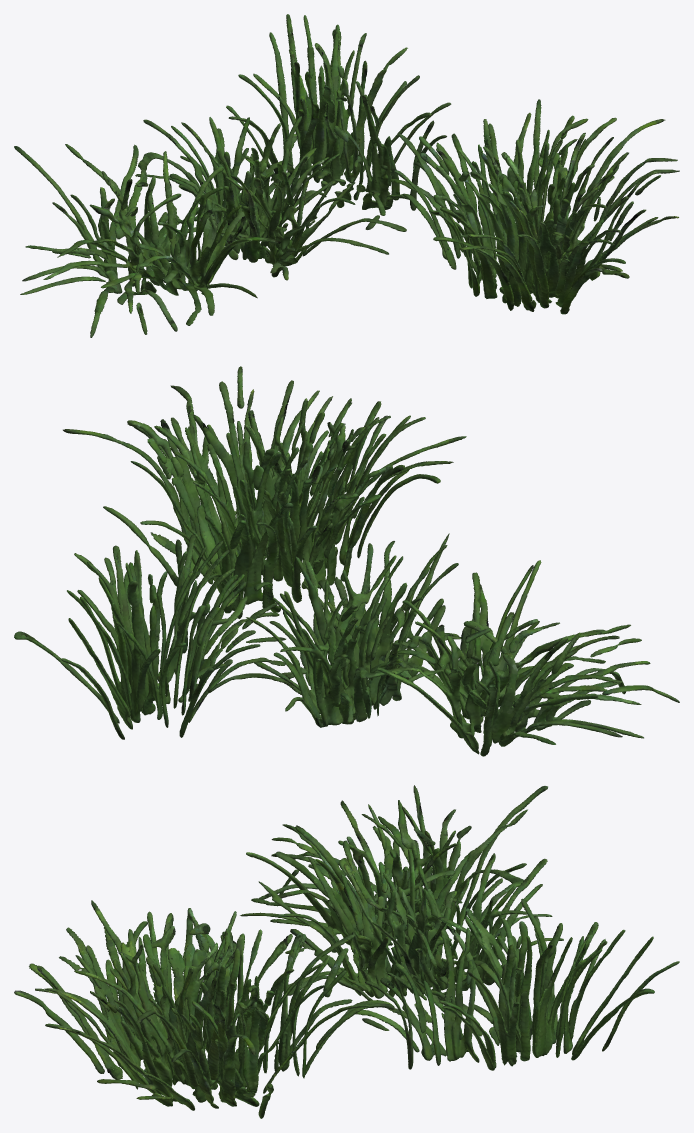
File: Grass.glb
3 views of the same model, one above another, from view 1: azimuth 30°, elevation 25°; view 2: azimuth 150°, elevation 25°; view 3: azimuth 270°, elevation 25° (orthographic). The views are drawn at different scales.
Size of the model in its own units: 2.09 by 0.4716 by 1.94.
1 material, 1 textured.
